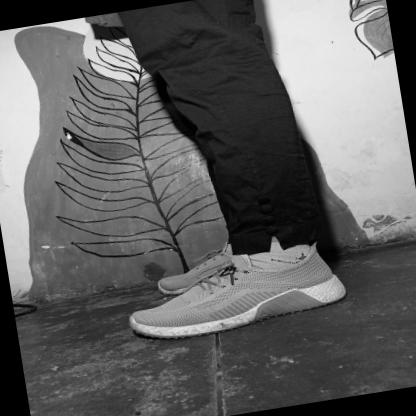ankle: (284, 268, 288, 272)
heel: (329, 275, 333, 279)
left_foot: (123, 246, 351, 348)
pinky: (174, 321, 176, 324)
toe: (142, 312, 146, 315)
